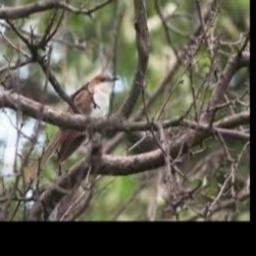Cuckoo: (19, 73, 118, 186)
